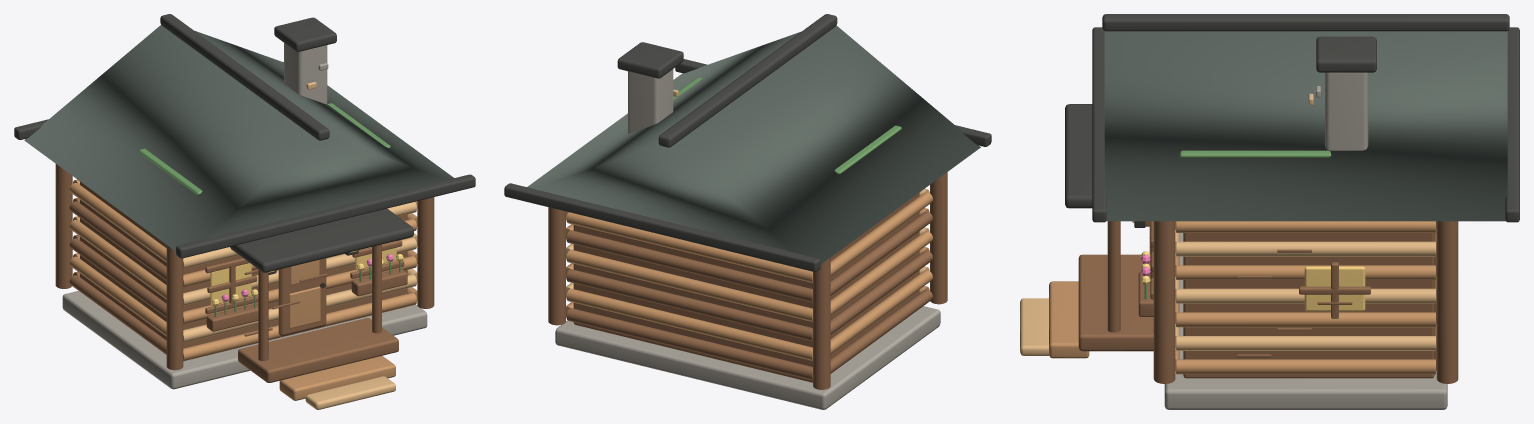
The model's file is wooden-cabin.glb.
3 views of the same model, side by side, from view 1: azimuth 30°, elevation 25°; view 2: azimuth 150°, elevation 25°; view 3: azimuth 270°, elevation 25° (orthographic). The views are drawn at different scales.
Parts seen in each view (by area): view 1: wooden_cabin_gable_roof, wooden_cabin_stone_foundation, wooden_cabin_porch_floor, wooden_cabin_porch_awning, wooden_cabin_dark_inner_wall, wooden_cabin_roof_front_trim, wooden_cabin_roof_ridge, wooden_cabin_porch_step_1, wooden_cabin_front_log_0, wooden_cabin_corner_post_-1.28_-0.98, wooden_cabin_chimney_stack, wooden_cabin_corner_post_-1.28_0.98 (+23 smaller); view 2: wooden_cabin_gable_roof, wooden_cabin_dark_inner_wall, wooden_cabin_stone_foundation, wooden_cabin_roof_back_trim, wooden_cabin_roof_ridge, wooden_cabin_back_log_0, wooden_cabin_back_log_1, wooden_cabin_back_log_2, wooden_cabin_back_log_3, wooden_cabin_back_log_4, wooden_cabin_back_log_5, wooden_cabin_chimney_stack (+12 smaller); view 3: wooden_cabin_gable_roof, wooden_cabin_dark_inner_wall, wooden_cabin_stone_foundation, wooden_cabin_roof_ridge, wooden_cabin_porch_floor, wooden_cabin_right_log_0, wooden_cabin_right_log_2, wooden_cabin_right_log_5, wooden_cabin_right_log_1, wooden_cabin_corner_post_1.28_-0.98, wooden_cabin_corner_post_1.28_0.98, wooden_cabin_chimney_stack (+14 smaller).
Part boxes in pixels (bbox=[...]): wooden_cabin_gable_roof: bbox=[24, 25, 454, 251]; wooden_cabin_stone_foundation: bbox=[62, 291, 427, 389]; wooden_cabin_porch_floor: bbox=[238, 318, 398, 382]; wooden_cabin_porch_awning: bbox=[230, 208, 413, 272]; wooden_cabin_dark_inner_wall: bbox=[80, 181, 407, 348]; wooden_cabin_roof_front_trim: bbox=[176, 174, 475, 258]; wooden_cabin_roof_ridge: bbox=[160, 14, 329, 140]; wooden_cabin_porch_step_1: bbox=[279, 356, 395, 400]; wooden_cabin_front_log_0: bbox=[183, 292, 416, 361]; wooden_cabin_corner_post_-1.28_-0.98: bbox=[166, 245, 183, 370]; wooden_cabin_chimney_stack: bbox=[284, 43, 327, 104]; wooden_cabin_corner_post_-1.28_0.98: bbox=[55, 164, 72, 288]; wooden_cabin_gable_roof: bbox=[527, 25, 980, 264]; wooden_cabin_dark_inner_wall: bbox=[573, 192, 919, 382]; wooden_cabin_stone_foundation: bbox=[555, 306, 940, 409]; wooden_cabin_roof_back_trim: bbox=[504, 183, 820, 271]; wooden_cabin_roof_ridge: bbox=[658, 14, 837, 147]; wooden_cabin_back_log_0: bbox=[566, 308, 812, 380]; wooden_cabin_back_log_1: bbox=[566, 288, 812, 360]; wooden_cabin_back_log_2: bbox=[566, 269, 812, 341]; wooden_cabin_back_log_3: bbox=[566, 249, 812, 321]; wooden_cabin_back_log_4: bbox=[566, 230, 812, 302]; wooden_cabin_back_log_5: bbox=[566, 212, 812, 282]; wooden_cabin_chimney_stack: bbox=[628, 69, 673, 133]; wooden_cabin_gable_roof: bbox=[1104, 31, 1507, 221]; wooden_cabin_dark_inner_wall: bbox=[1183, 233, 1434, 378]; wooden_cabin_stone_foundation: bbox=[1164, 233, 1447, 409]; wooden_cabin_roof_ridge: bbox=[1102, 14, 1509, 31]; wooden_cabin_porch_floor: bbox=[1078, 254, 1153, 351]; wooden_cabin_right_log_0: bbox=[1176, 359, 1435, 374]; wooden_cabin_right_log_2: bbox=[1176, 312, 1435, 327]; wooden_cabin_right_log_5: bbox=[1176, 241, 1435, 256]; wooden_cabin_right_log_1: bbox=[1176, 336, 1435, 350]; wooden_cabin_corner_post_1.28_-0.98: bbox=[1153, 221, 1175, 383]; wooden_cabin_corner_post_1.28_0.98: bbox=[1436, 221, 1458, 383]; wooden_cabin_chimney_stack: bbox=[1325, 72, 1368, 150].
Size of the model in its own units: 3.02 by 2.54 by 3.46.
